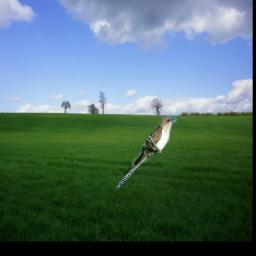Cuckoo: (116, 116, 179, 191)
